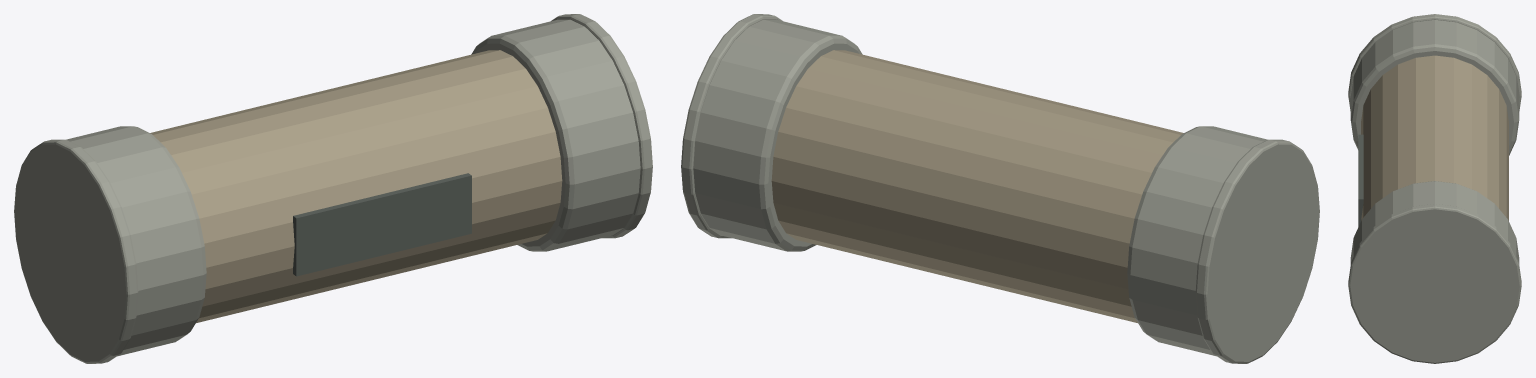
Rendered from fuse.glb.
3 views of the same model, side by side, from view 1: azimuth 30°, elevation 25°; view 2: azimuth 150°, elevation 25°; view 3: azimuth 270°, elevation 25° (orthographic). The views are drawn at different scales.
Parts seen in each view (by area): view 1: fuse; view 2: fuse; view 3: fuse.
Boxes of the visible parts, x1,y1,x2,y2 form: fuse: (14,14,652,363); fuse: (681,14,1319,363); fuse: (1348,14,1521,363).
Bounding box in the file's own units: 0.18 × 0.068 × 0.068.
